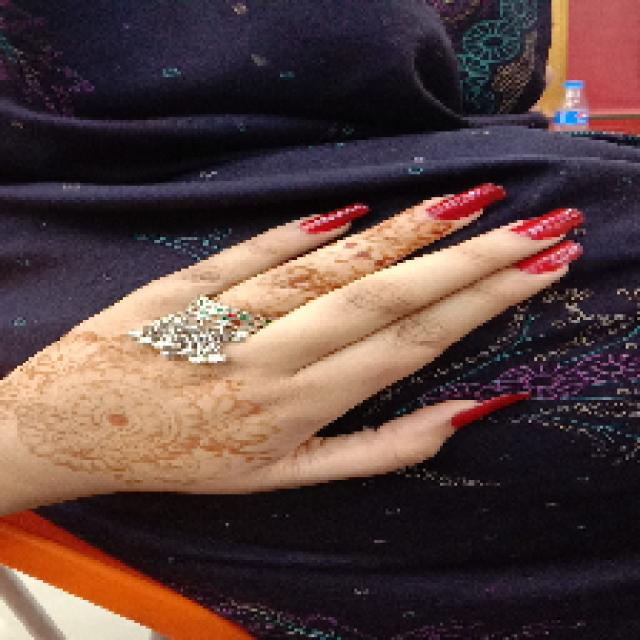Nail: (450, 392, 531, 430), (430, 184, 505, 219), (508, 209, 583, 240), (515, 240, 582, 274), (301, 204, 369, 234)
